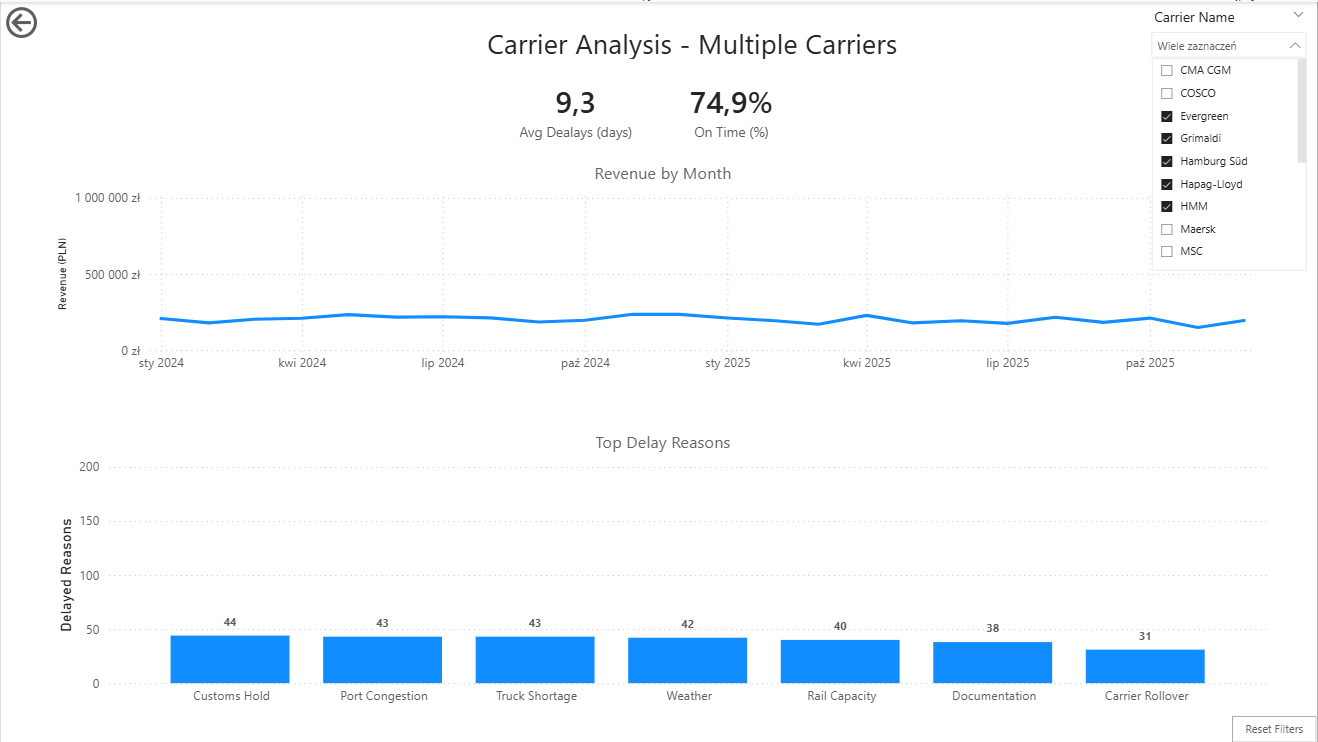

The page's visual inventory and layout, read from the dashboard file:
{"tool":"powerbi","page":{"name":"Carriers Analysis","canvas":[1280,720],"ordinal":1},"visuals":[{"type":"actionButton","box":[0,0,100,40],"z":0},{"type":"cardVisual","fields":{"Data":["dim_calendar.On Time % Display"]},"box":[640,55.4,141,100.2],"z":1000},{"type":"cardVisual","fields":{"Data":["fact_shipments.Śr. opóźnienie %"]},"box":[478.5,55.4,161.5,100.2],"z":2000},{"type":"lineChart","title":"Revenue by Month","fields":{"Y":["fact_shipments.Przychód"],"Category":["dim_calendar.MonthStartDate"]},"box":[49.6,155.6,1188.6,213],"z":3000},{"type":"clusteredColumnChart","title":"Top Delay Reasons","fields":{"Category":["fact_shipments.DelayReason"],"Y":["fact_shipments.Opóżnione wysyłki"]},"box":[49.6,417.3,1188.6,275.3],"z":4000},{"type":"actionButton","box":[1197.3,694,82.4,26],"z":5000},{"type":"slicer","fields":{"Values":["dim_carriers.CarrierName"]},"box":[1108.6,0,171.4,62],"z":6000},{"type":"textbox","box":[467.8,21.4,344.3,36],"z":7000}]}

Visuals, with their boxes on the page's 1280x720 design canvas (x1, y1, x2, y2). These are canvas units, not pixel positions in the 1318x742 screenshot, which may show the page scaled, cropped or inside an application window:
actionButton: BBox(0, 0, 100, 40)
cardVisual - dim_calendar.On Time % Display: BBox(640, 55, 781, 156)
cardVisual - fact_shipments.Śr. opóźnienie %: BBox(478, 55, 640, 156)
"Revenue by Month" lineChart: BBox(50, 156, 1238, 369)
"Top Delay Reasons" clusteredColumnChart: BBox(50, 417, 1238, 693)
actionButton: BBox(1197, 694, 1280, 720)
slicer - dim_carriers.CarrierName: BBox(1109, 0, 1280, 62)
textbox: BBox(468, 21, 812, 57)
